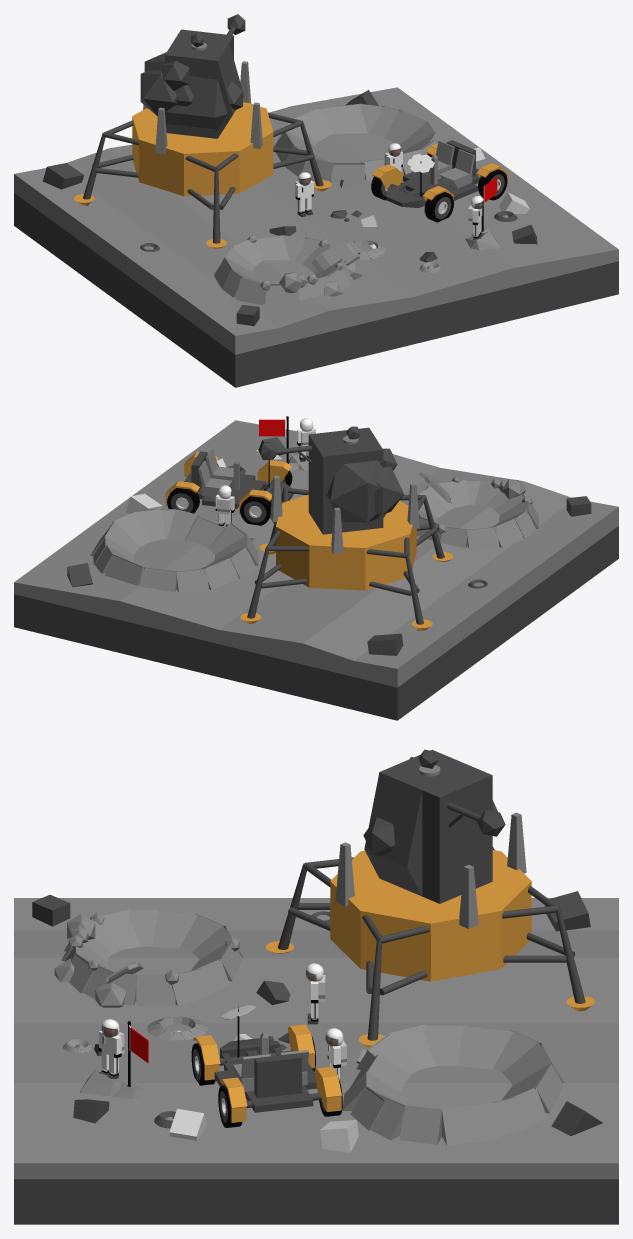
File: Wandering+the+moon.glb
The picture shows the model from 3 angles, top to bottom: view 1: azimuth 30°, elevation 25°; view 2: azimuth 150°, elevation 25°; view 3: azimuth 270°, elevation 25°; orthographic projection. The views are drawn at different scales.
Parts seen in each view (by area): view 1: wedge (×19), box (×6), icosahedron (×3); view 2: wedge (×23), box (×10), icosahedron (×2), truncatedPyramid4 (×3), truncatedCone (×2); view 3: wedge (×32), box (×12), truncatedPyramid4 (×3), truncatedCone (×3), icosahedron (×3).
Boxes of the visible parts, left/top/right/bottom form: wedge (×19): left=14, top=43, right=618, bottom=342; box (×6): left=14, top=29, right=618, bottom=387; icosahedron (×3): left=140, top=52, right=193, bottom=116; wedge (×23): left=14, top=420, right=618, bottom=675; box (×10): left=14, top=419, right=618, bottom=720; icosahedron (×2): left=326, top=460, right=404, bottom=522; truncatedPyramid4 (×3): left=270, top=475, right=419, bottom=553; truncatedCone (×2): left=247, top=547, right=423, bottom=630; wedge (×32): left=14, top=772, right=618, bottom=1163; box (×12): left=14, top=749, right=618, bottom=1224; truncatedPyramid4 (×3): left=335, top=812, right=526, bottom=928; truncatedCone (×3): left=277, top=863, right=585, bottom=1040; icosahedron (×3): left=80, top=817, right=394, bottom=1096.
Bounding box in the file's own units: 17 × 9.1 × 17.
